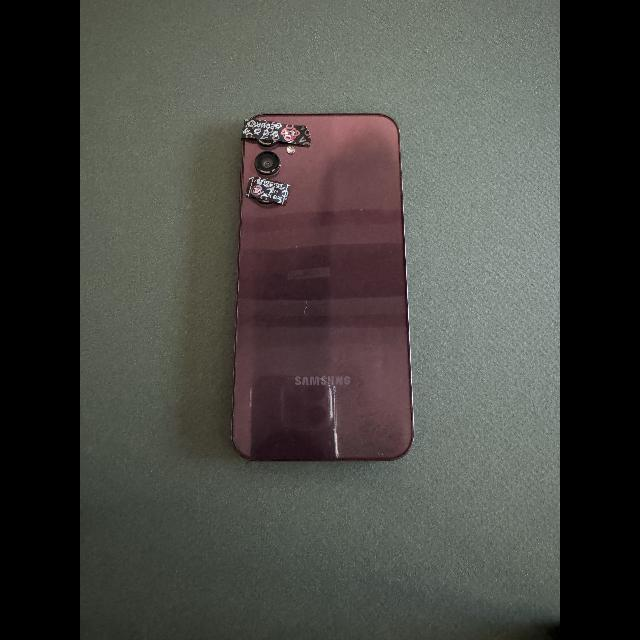lens: (255, 152, 280, 175), (257, 140, 278, 146), (257, 198, 273, 204)
phone: (231, 113, 414, 461)
sticker: (245, 176, 290, 205)
